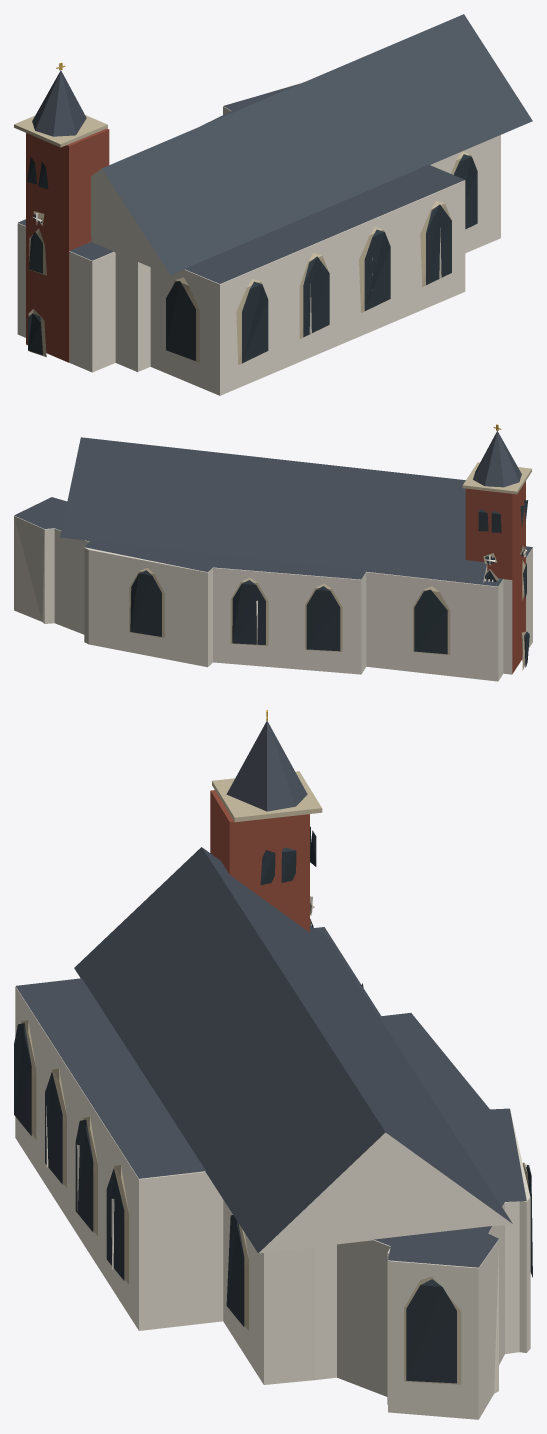
Rendered from english-reformed-church.lod1.glb.
The picture shows the model from 3 angles, top to bottom: view 1: azimuth 30°, elevation 25°; view 2: azimuth 150°, elevation 25°; view 3: azimuth 270°, elevation 25°; orthographic projection. The views are drawn at different scales.
Parts seen in each view (by area): view 1: english-reformed-church; view 2: english-reformed-church; view 3: english-reformed-church.
Part boxes in pixels (x1,y1,x2,y2): english-reformed-church: (14,14,532,395); english-reformed-church: (14,424,532,681); english-reformed-church: (14,710,532,1419).
Bounding box in the file's own units: 36.75 × 18.7 × 22.98.
